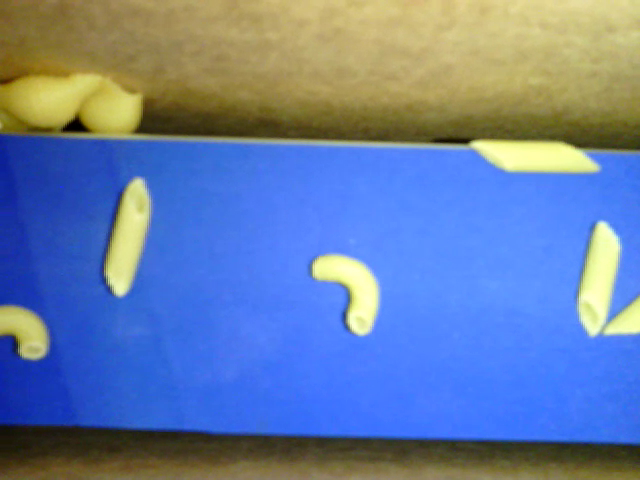elbow: (307, 251, 379, 340), (1, 303, 57, 363)
penne: (103, 172, 149, 300), (573, 219, 620, 335), (470, 139, 599, 176), (605, 297, 639, 333)
shell: (1, 67, 103, 121), (76, 74, 147, 131), (1, 112, 70, 133)
